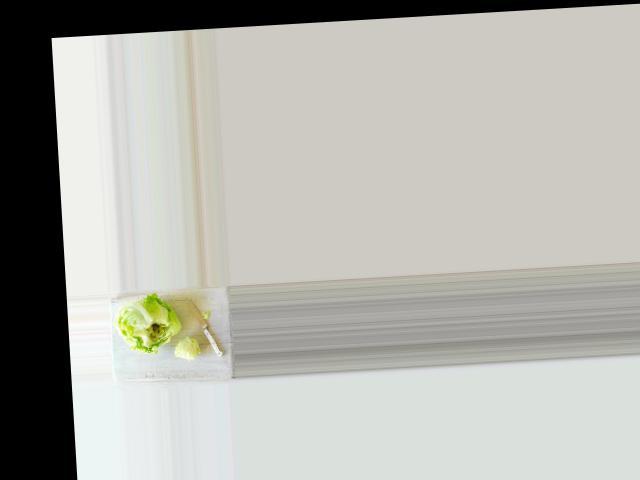lettuce: (110, 295, 176, 355)
